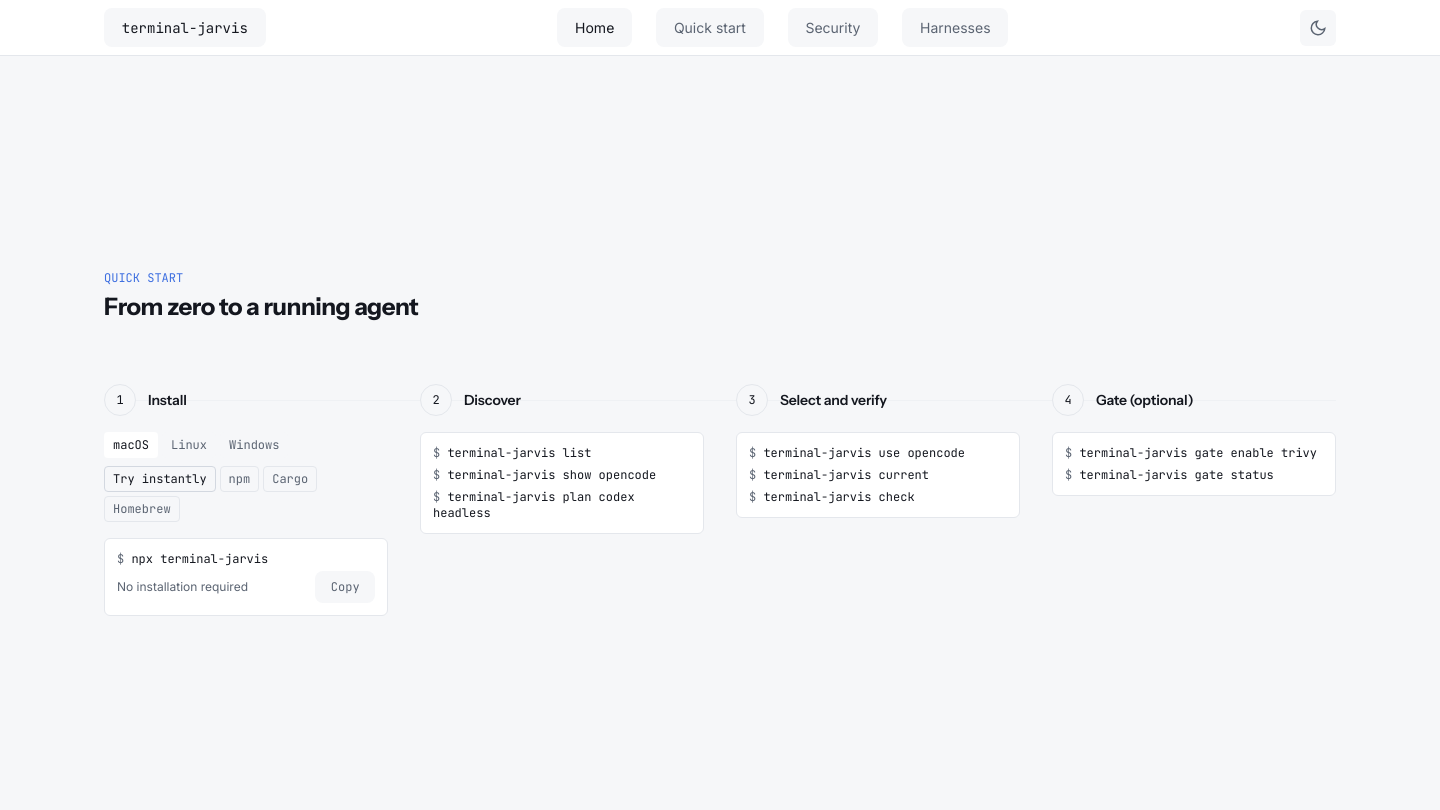
Copy Functionality › windows tab does not offer homebrew as an install method
(page scrolled)
Click the button "Windows" at (254, 445), box x1=220 y1=432 x2=288 y2=458
(page scrolled)
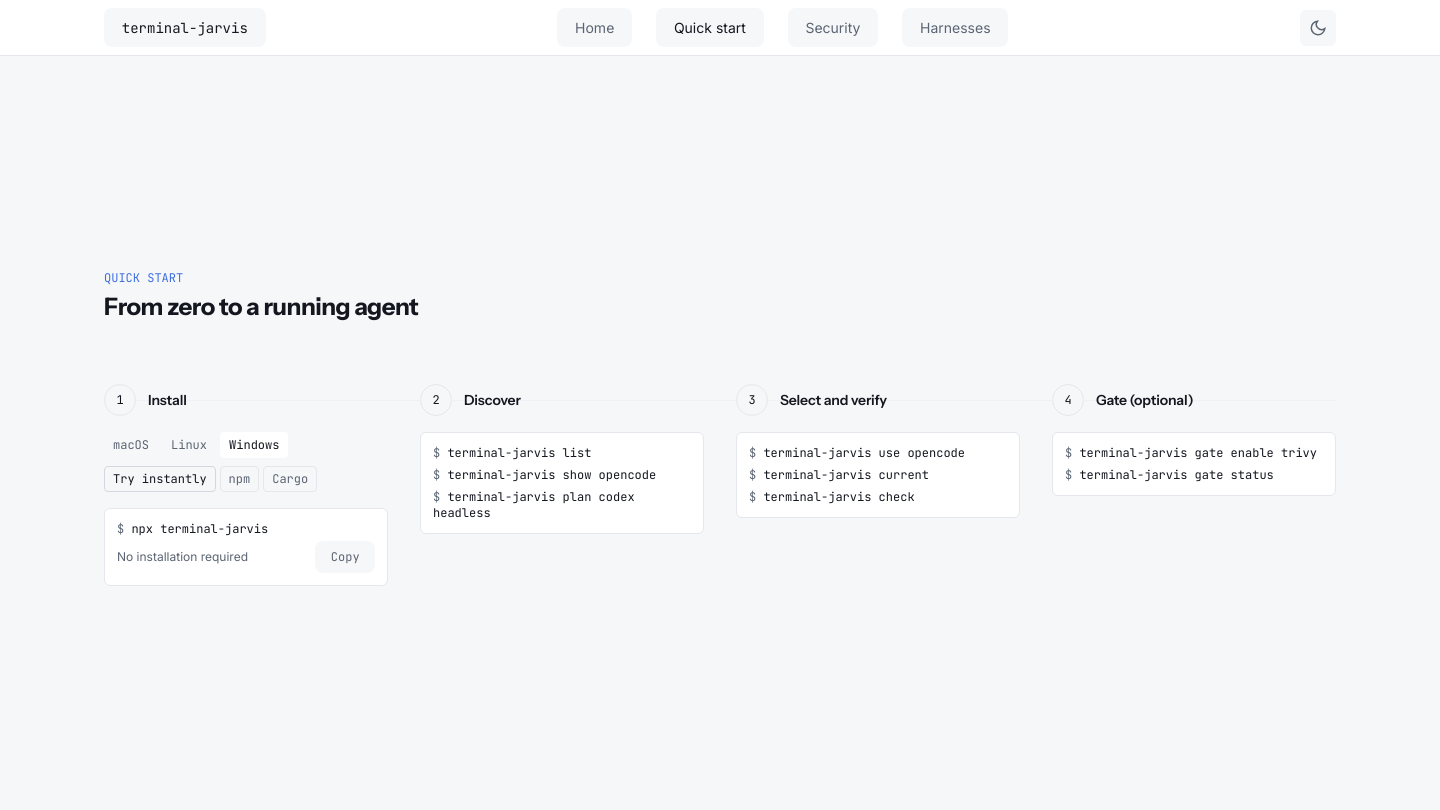
Result: the button "Homebrew" is gone
